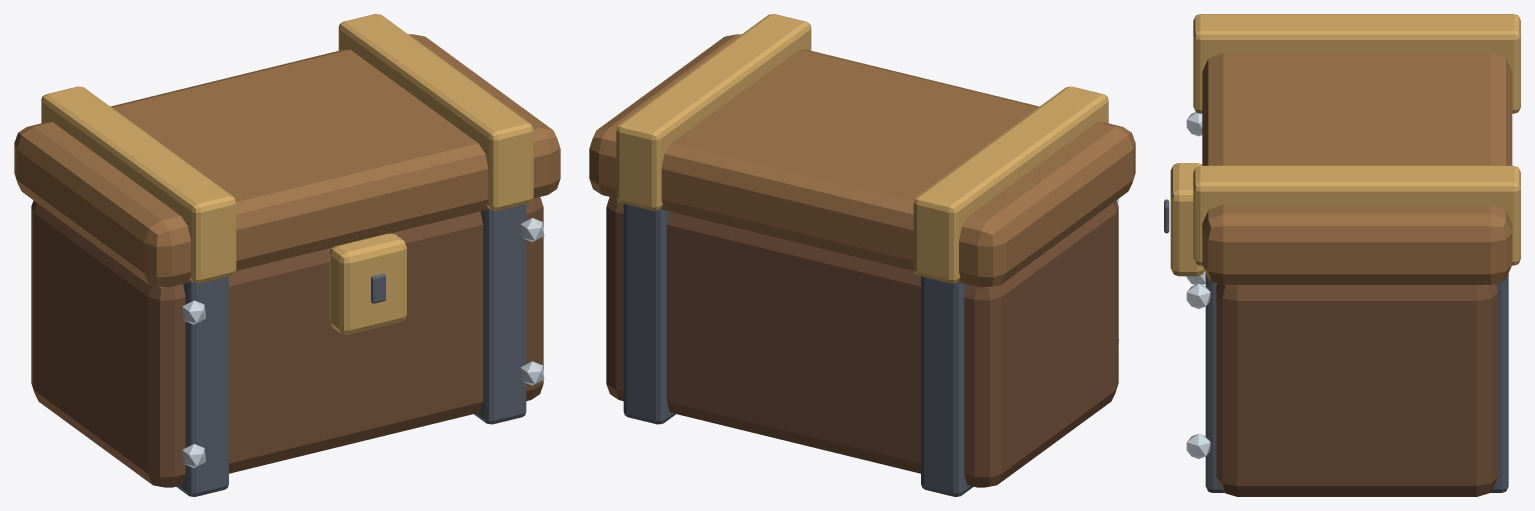
File: chest.glb
3 views of the same model, side by side, from view 1: azimuth 30°, elevation 25°; view 2: azimuth 150°, elevation 25°; view 3: azimuth 270°, elevation 25° (orthographic). The views are drawn at different scales.
Visible parts, largest first — view 1: Chest_WoodBox, Chest_Lid, Chest_LidBand, Chest_LidBand.001, Chest_Band.001, Chest_Band, Chest_Lock; view 2: Chest_WoodBox, Chest_Lid, Chest_LidBand, Chest_LidBand.001, Chest_Band.001, Chest_Band; view 3: Chest_Lid, Chest_WoodBox, Chest_LidBand.001, Chest_LidBand, Chest_Band.001, Chest_Lock, Chest_Rivet.002, Chest_Rivet.003.
Boxes of the visible parts, left/top/right/bottom form: Chest_WoodBox: left=31, top=197, right=543, bottom=487; Chest_Lid: left=14, top=34, right=560, bottom=287; Chest_LidBand: left=41, top=86, right=236, bottom=283; Chest_LidBand.001: left=338, top=14, right=533, bottom=210; Chest_Band.001: left=474, top=204, right=526, bottom=424; Chest_Band: left=176, top=276, right=228, bottom=496; Chest_Lock: left=329, top=233, right=406, bottom=334; Chest_WoodBox: left=606, top=197, right=1118, bottom=487; Chest_Lid: left=589, top=34, right=1135, bottom=287; Chest_LidBand: left=913, top=86, right=1108, bottom=283; Chest_LidBand.001: left=616, top=14, right=811, bottom=210; Chest_Band.001: left=623, top=204, right=675, bottom=424; Chest_Band: left=921, top=276, right=973, bottom=496; Chest_Lid: left=1202, top=52, right=1512, bottom=284; Chest_WoodBox: left=1216, top=283, right=1497, bottom=496; Chest_LidBand.001: left=1193, top=165, right=1520, bottom=265; Chest_LidBand: left=1193, top=14, right=1520, bottom=113; Chest_Band.001: left=1205, top=273, right=1508, bottom=492; Chest_Lock: left=1170, top=163, right=1204, bottom=276; Chest_Rivet.002: left=1186, top=433, right=1210, bottom=458; Chest_Rivet.003: left=1186, top=283, right=1210, bottom=308.
Bounding box in the file's own units: 1.42 × 0.975 × 1.01.
